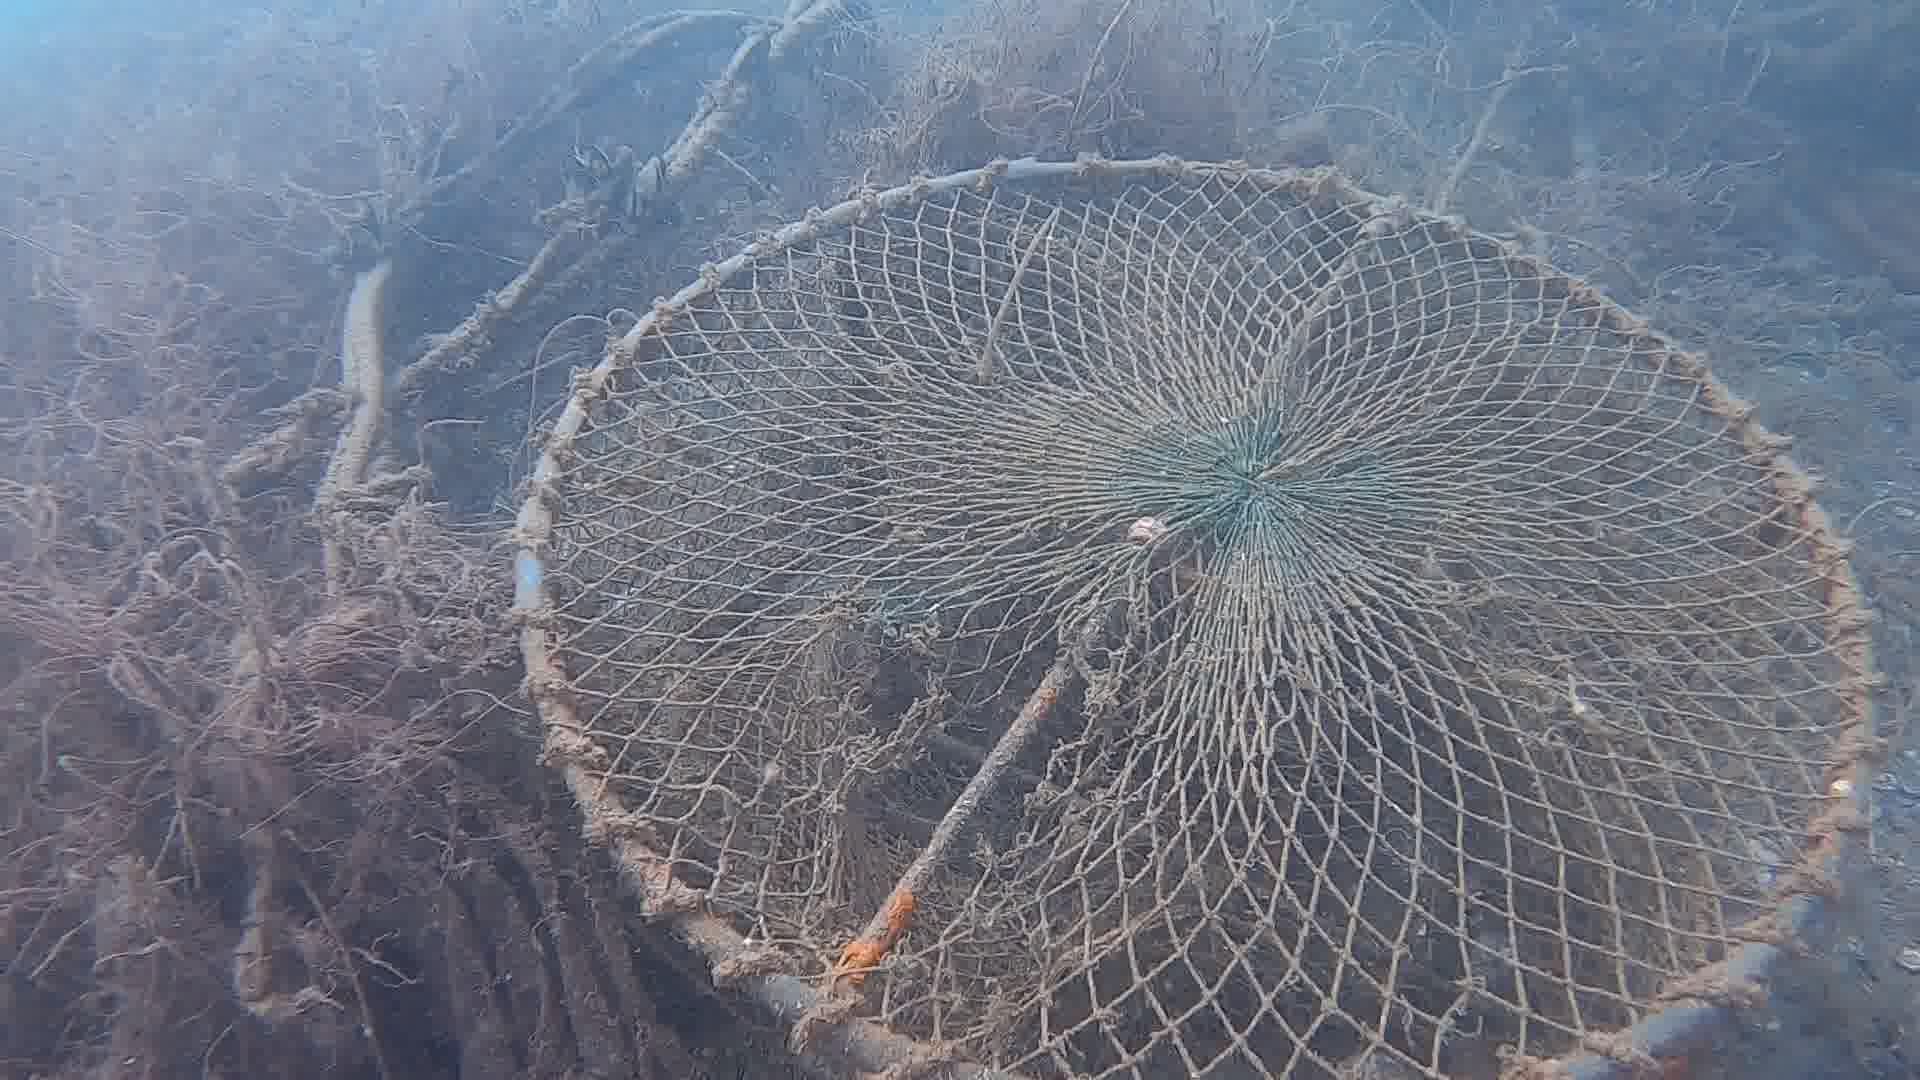circular fish trap: (505, 152, 1882, 1080)
